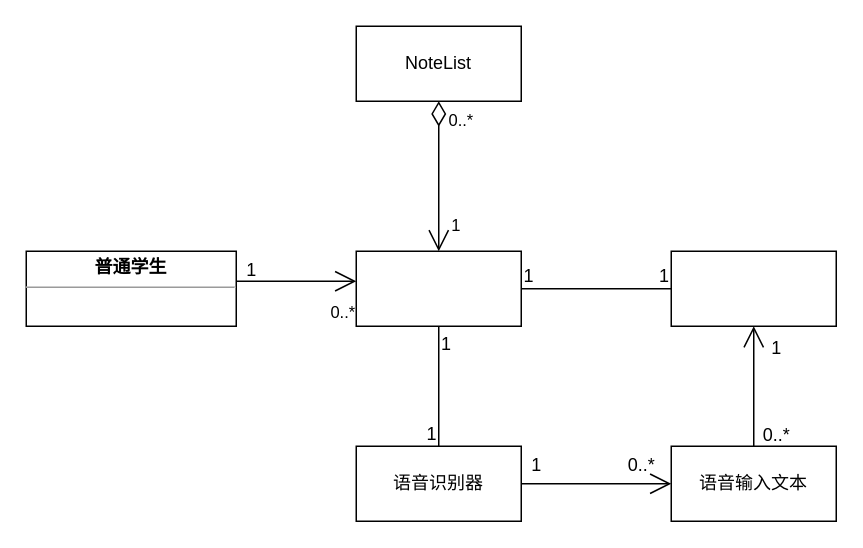
The diagram is 863 pixels wide and 548 high, and some of its shapes have lost their labels. Each missing label, with the centre of its shape:
Note: pixel 438 288
NoteEditActivity: pixel 753 288
